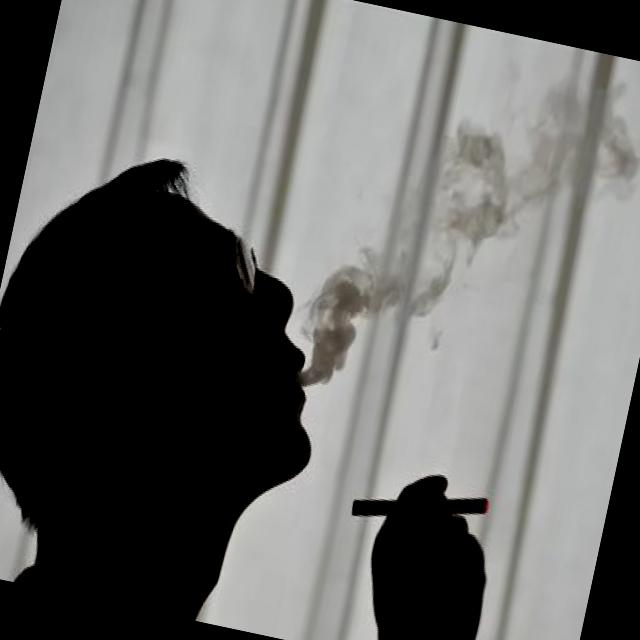cigarette: (347, 462, 498, 554)
